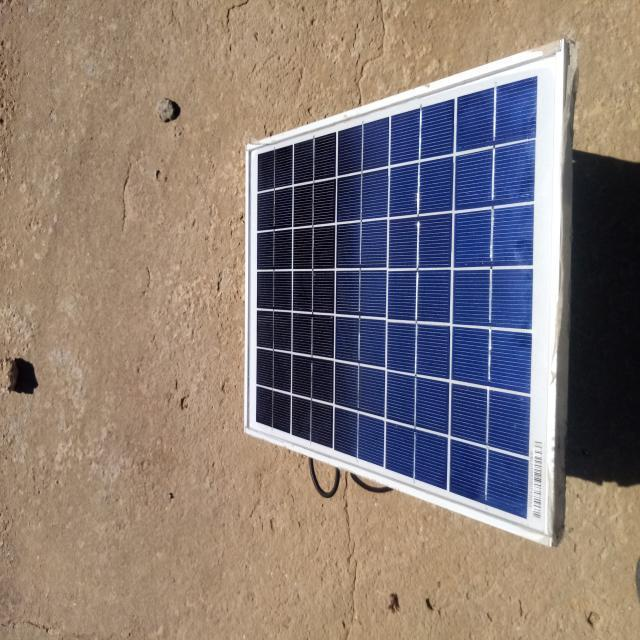Normal Solar Panel: (248, 37, 568, 544)
